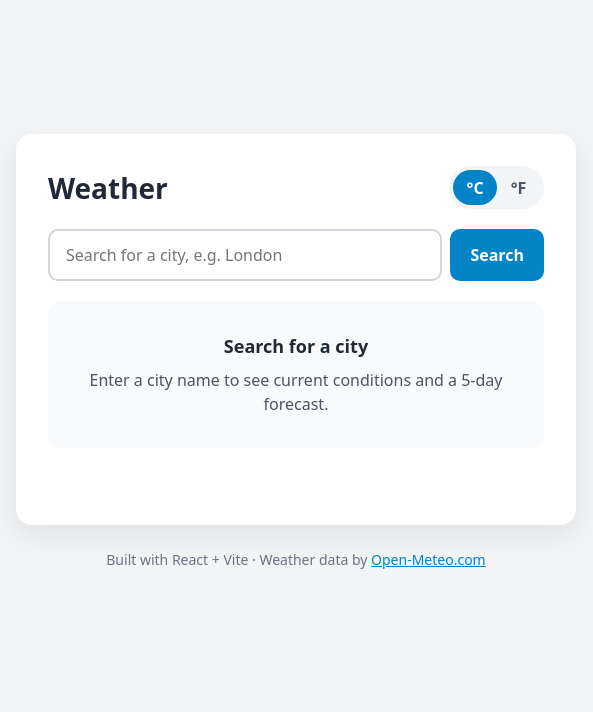
Test: App › shows current weather and the forecast after a successful search
This screenshot has width=593, height=712.
In the search field named "City name": point(245, 255) 48,229 -> 442,281, type "Paris"
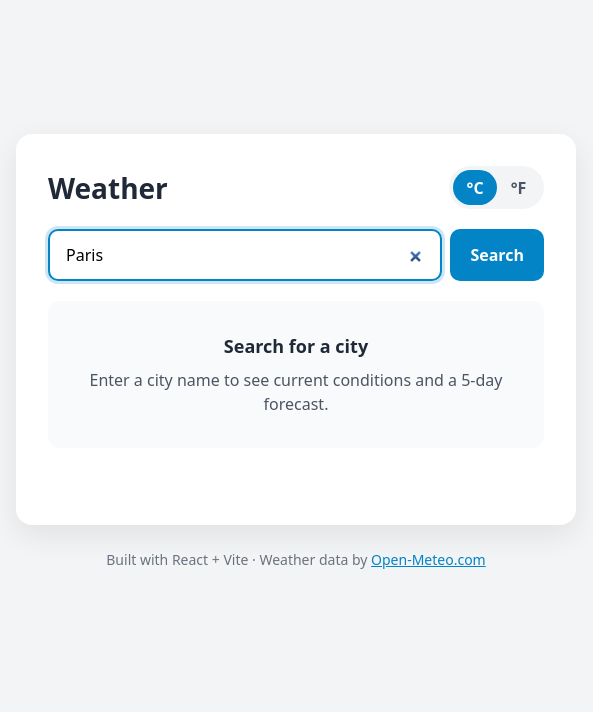
Click the button "Search": point(497, 255) 450,229 -> 544,281
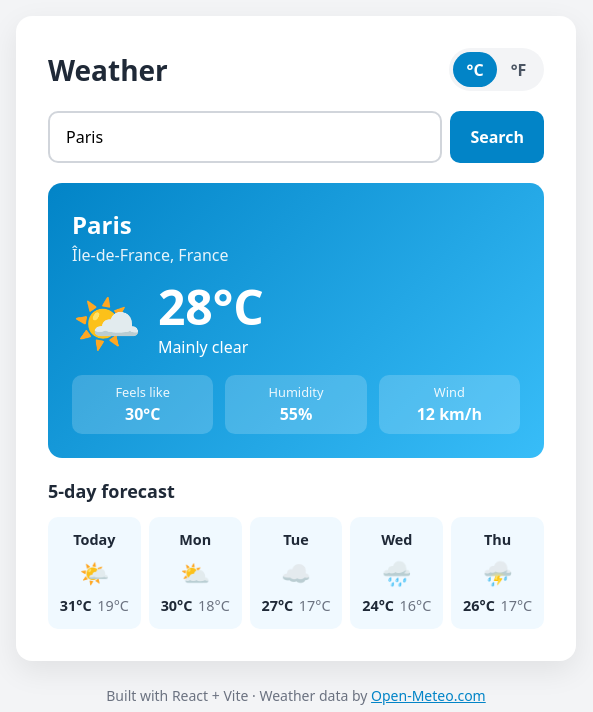
Expected: the heading "Paris" is shown, 72,208 -> 132,241
Expected: the text "Île-de-France, France" is shown, 72,244 -> 228,266
Expected: the text "28°C" is shown, 158,283 -> 264,331
